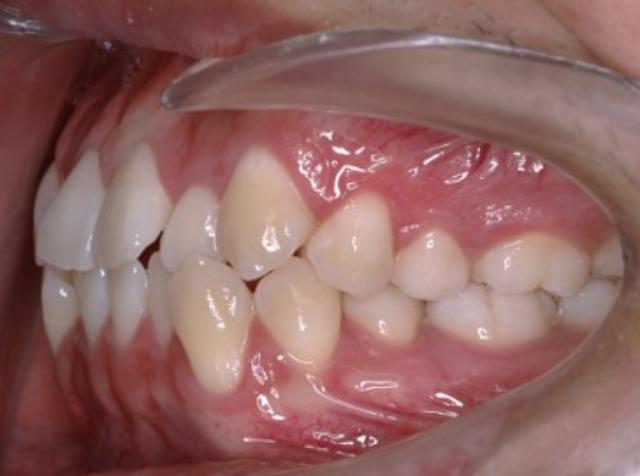canine class I: (163, 136, 347, 404)
molar class III 1/2: (426, 216, 590, 358)
